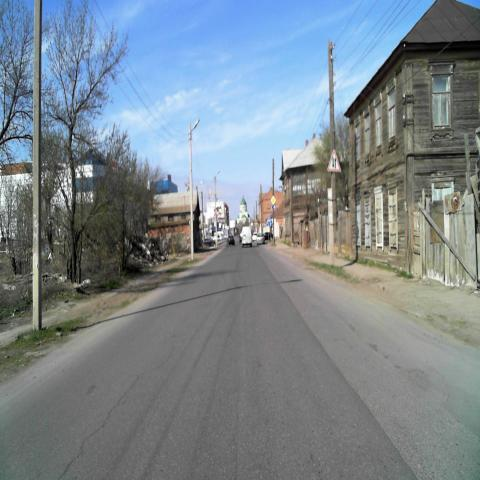1_21: (328, 148, 340, 172)
2_1: (270, 194, 276, 205)
